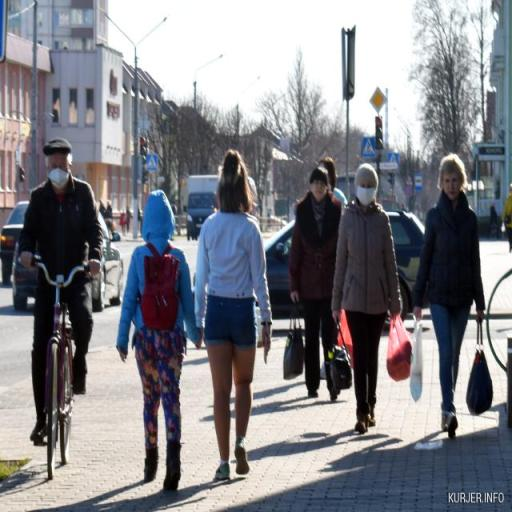person: (22, 137, 108, 449), (195, 149, 275, 481), (119, 192, 202, 496), (411, 155, 489, 441), (336, 161, 403, 437), (289, 172, 344, 400)
